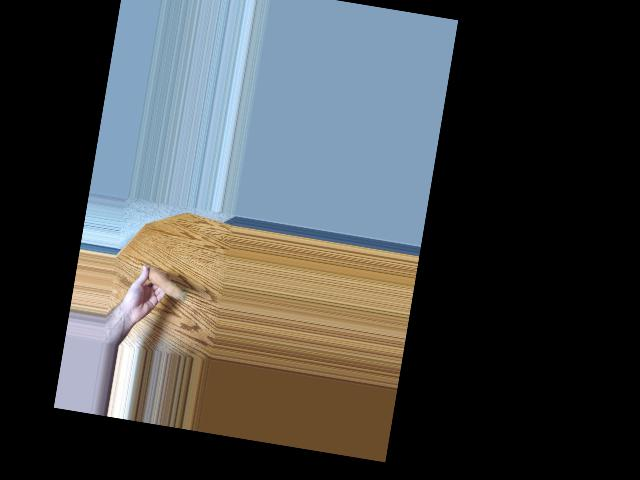sweet_potato: (135, 263, 192, 306)
